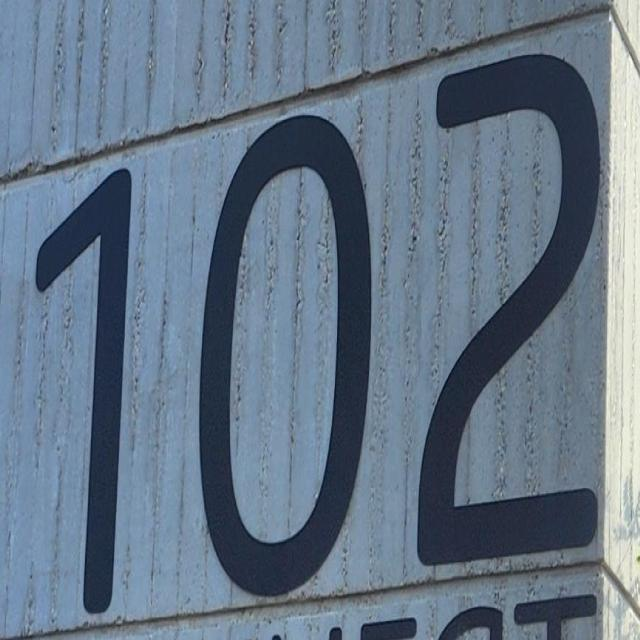character: (414, 49, 604, 571), (194, 108, 376, 606), (33, 162, 135, 624)
